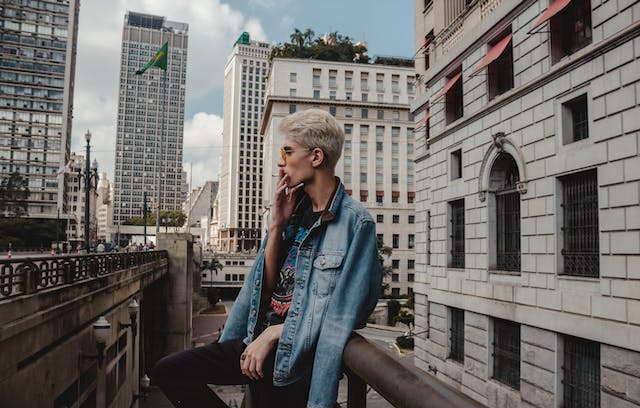Cigarette: (270, 173, 283, 178)
